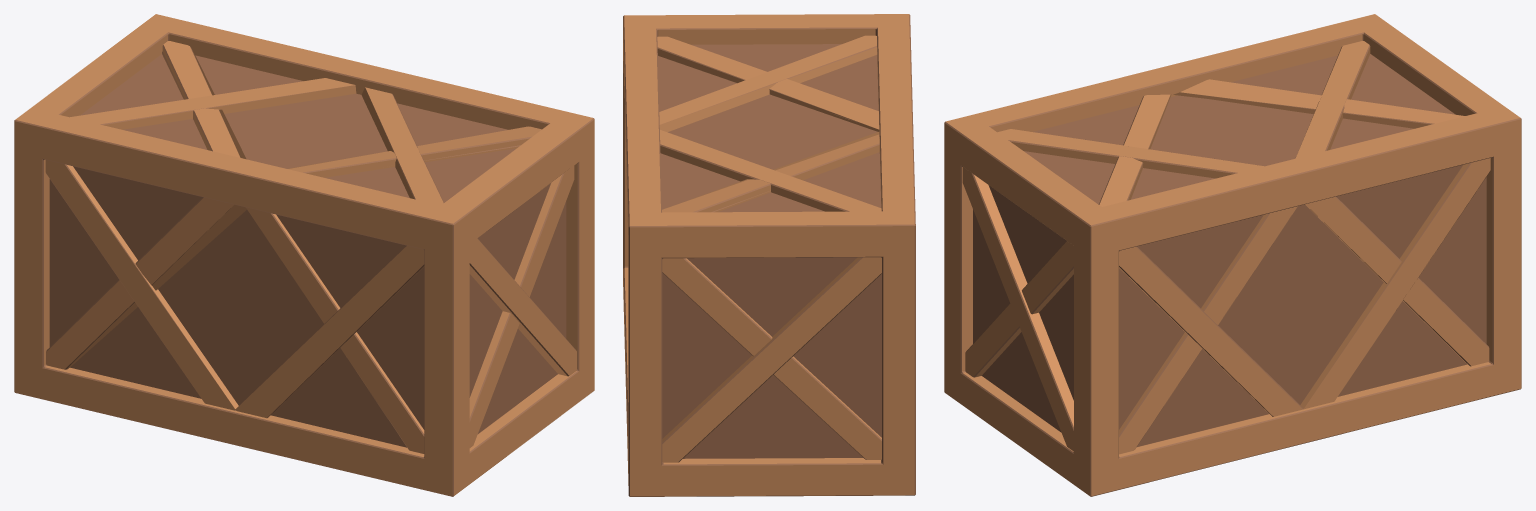
3 renders of one model, left to right at view 1: azimuth 30°, elevation 25°; view 2: azimuth 150°, elevation 25°; view 3: azimuth 270°, elevation 25°, orthographic.
Parts seen in each view (by area): view 1: Box_01; view 2: Box_01; view 3: Box_01.
Boxes of the visible parts, left/top/right/bottom form: Box_01: left=14, top=14, right=594, bottom=496; Box_01: left=623, top=14, right=915, bottom=496; Box_01: left=944, top=14, right=1521, bottom=496.
Size of the model in its own units: 99.79 by 59.54 by 115.
